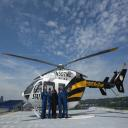helicopter: (20, 40, 128, 109)
